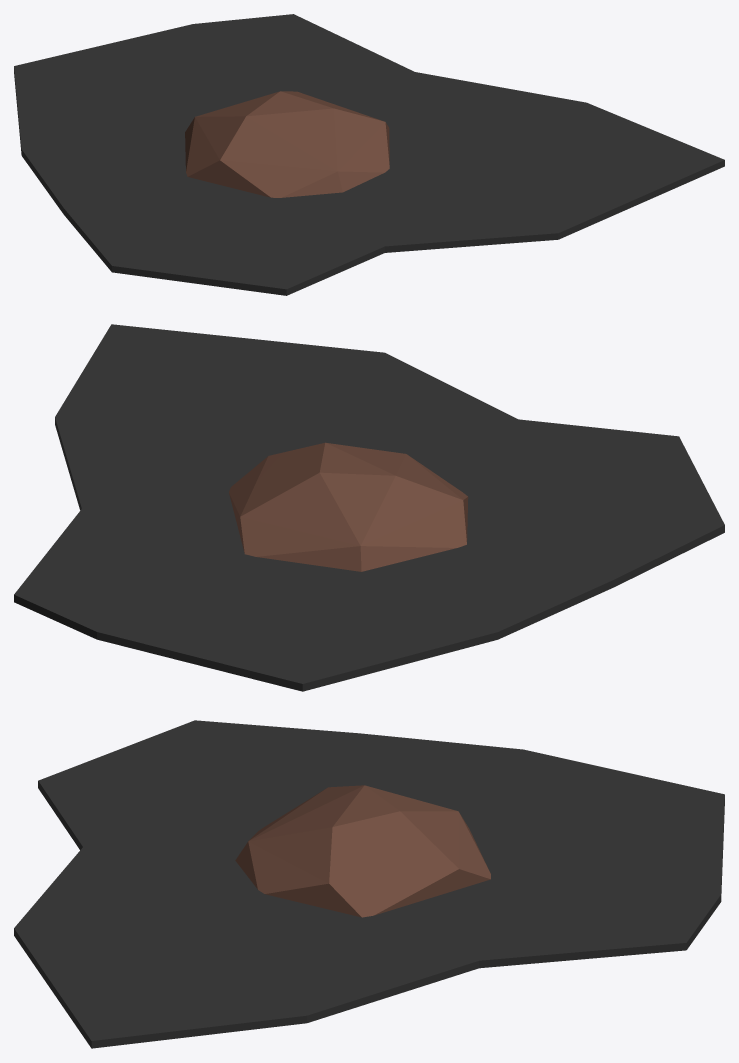
Rendered from egg-burned.glb.
3 views of the same model, one above another, from view 1: azimuth 30°, elevation 25°; view 2: azimuth 150°, elevation 25°; view 3: azimuth 270°, elevation 25° (orthographic). The views are drawn at different scales.
Parts seen in each view (by area): view 1: Egg_Burned; view 2: Egg_Burned; view 3: Egg_Burned.
Boxes of the visible parts, x1,y1,x2,y2 form: Egg_Burned: (14, 14, 724, 295); Egg_Burned: (14, 324, 724, 691); Egg_Burned: (14, 720, 724, 1048).
Size of the model in its own units: 1.19 by 0.1071 by 1.12.
